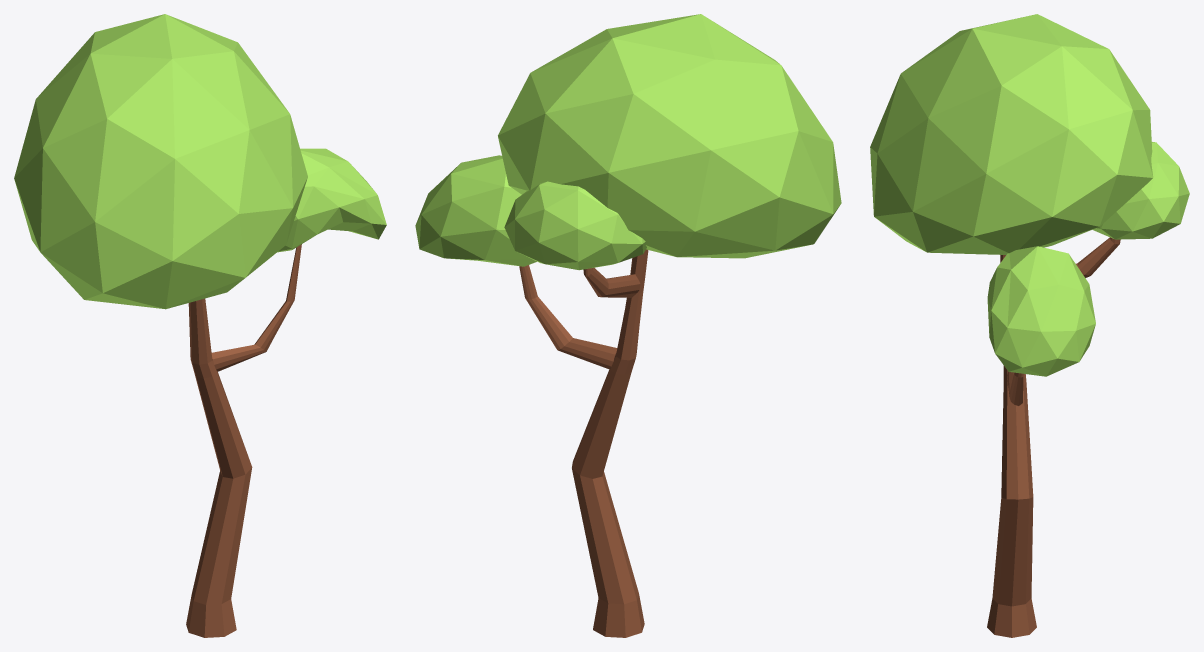
File: Generic_Tree.fbx
3 views of the same model, side by side, from view 1: azimuth 30°, elevation 25°; view 2: azimuth 150°, elevation 25°; view 3: azimuth 270°, elevation 25° (orthographic). The views are drawn at different scales.
Parts seen in each view (by area): view 1: Generic_Tree; view 2: Generic_Tree; view 3: Generic_Tree.
Boxes of the visible parts, left/top/right/bottom form: Generic_Tree: left=14, top=14, right=386, bottom=637; Generic_Tree: left=415, top=14, right=841, bottom=637; Generic_Tree: left=870, top=14, right=1189, bottom=637.
Size of the model in its own units: 5.59 by 8.69 by 4.4.
